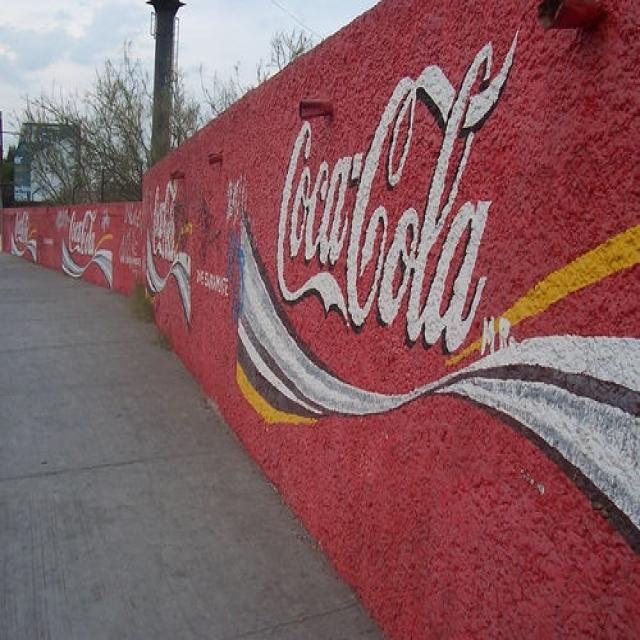cocacola: (269, 13, 539, 359), (143, 178, 188, 264), (67, 208, 104, 261)
